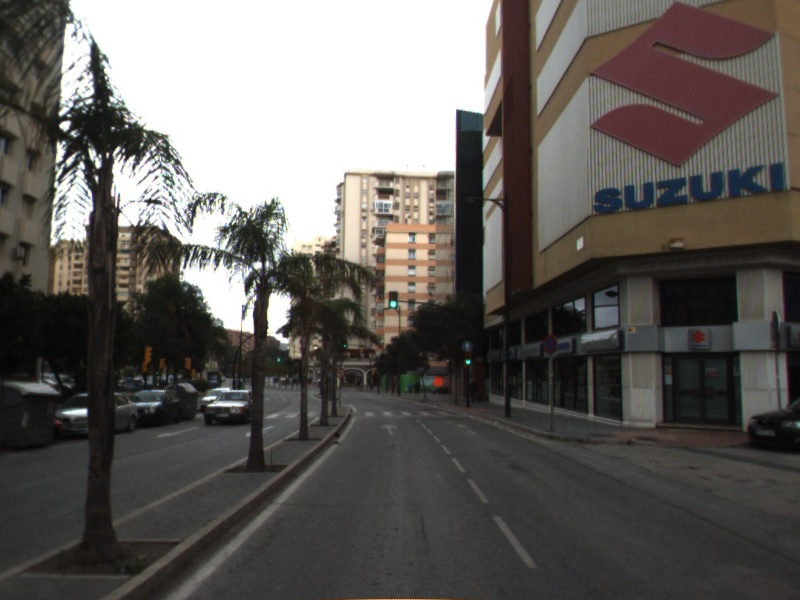STRAIGHT: (455, 422, 478, 437), (378, 422, 400, 437)
